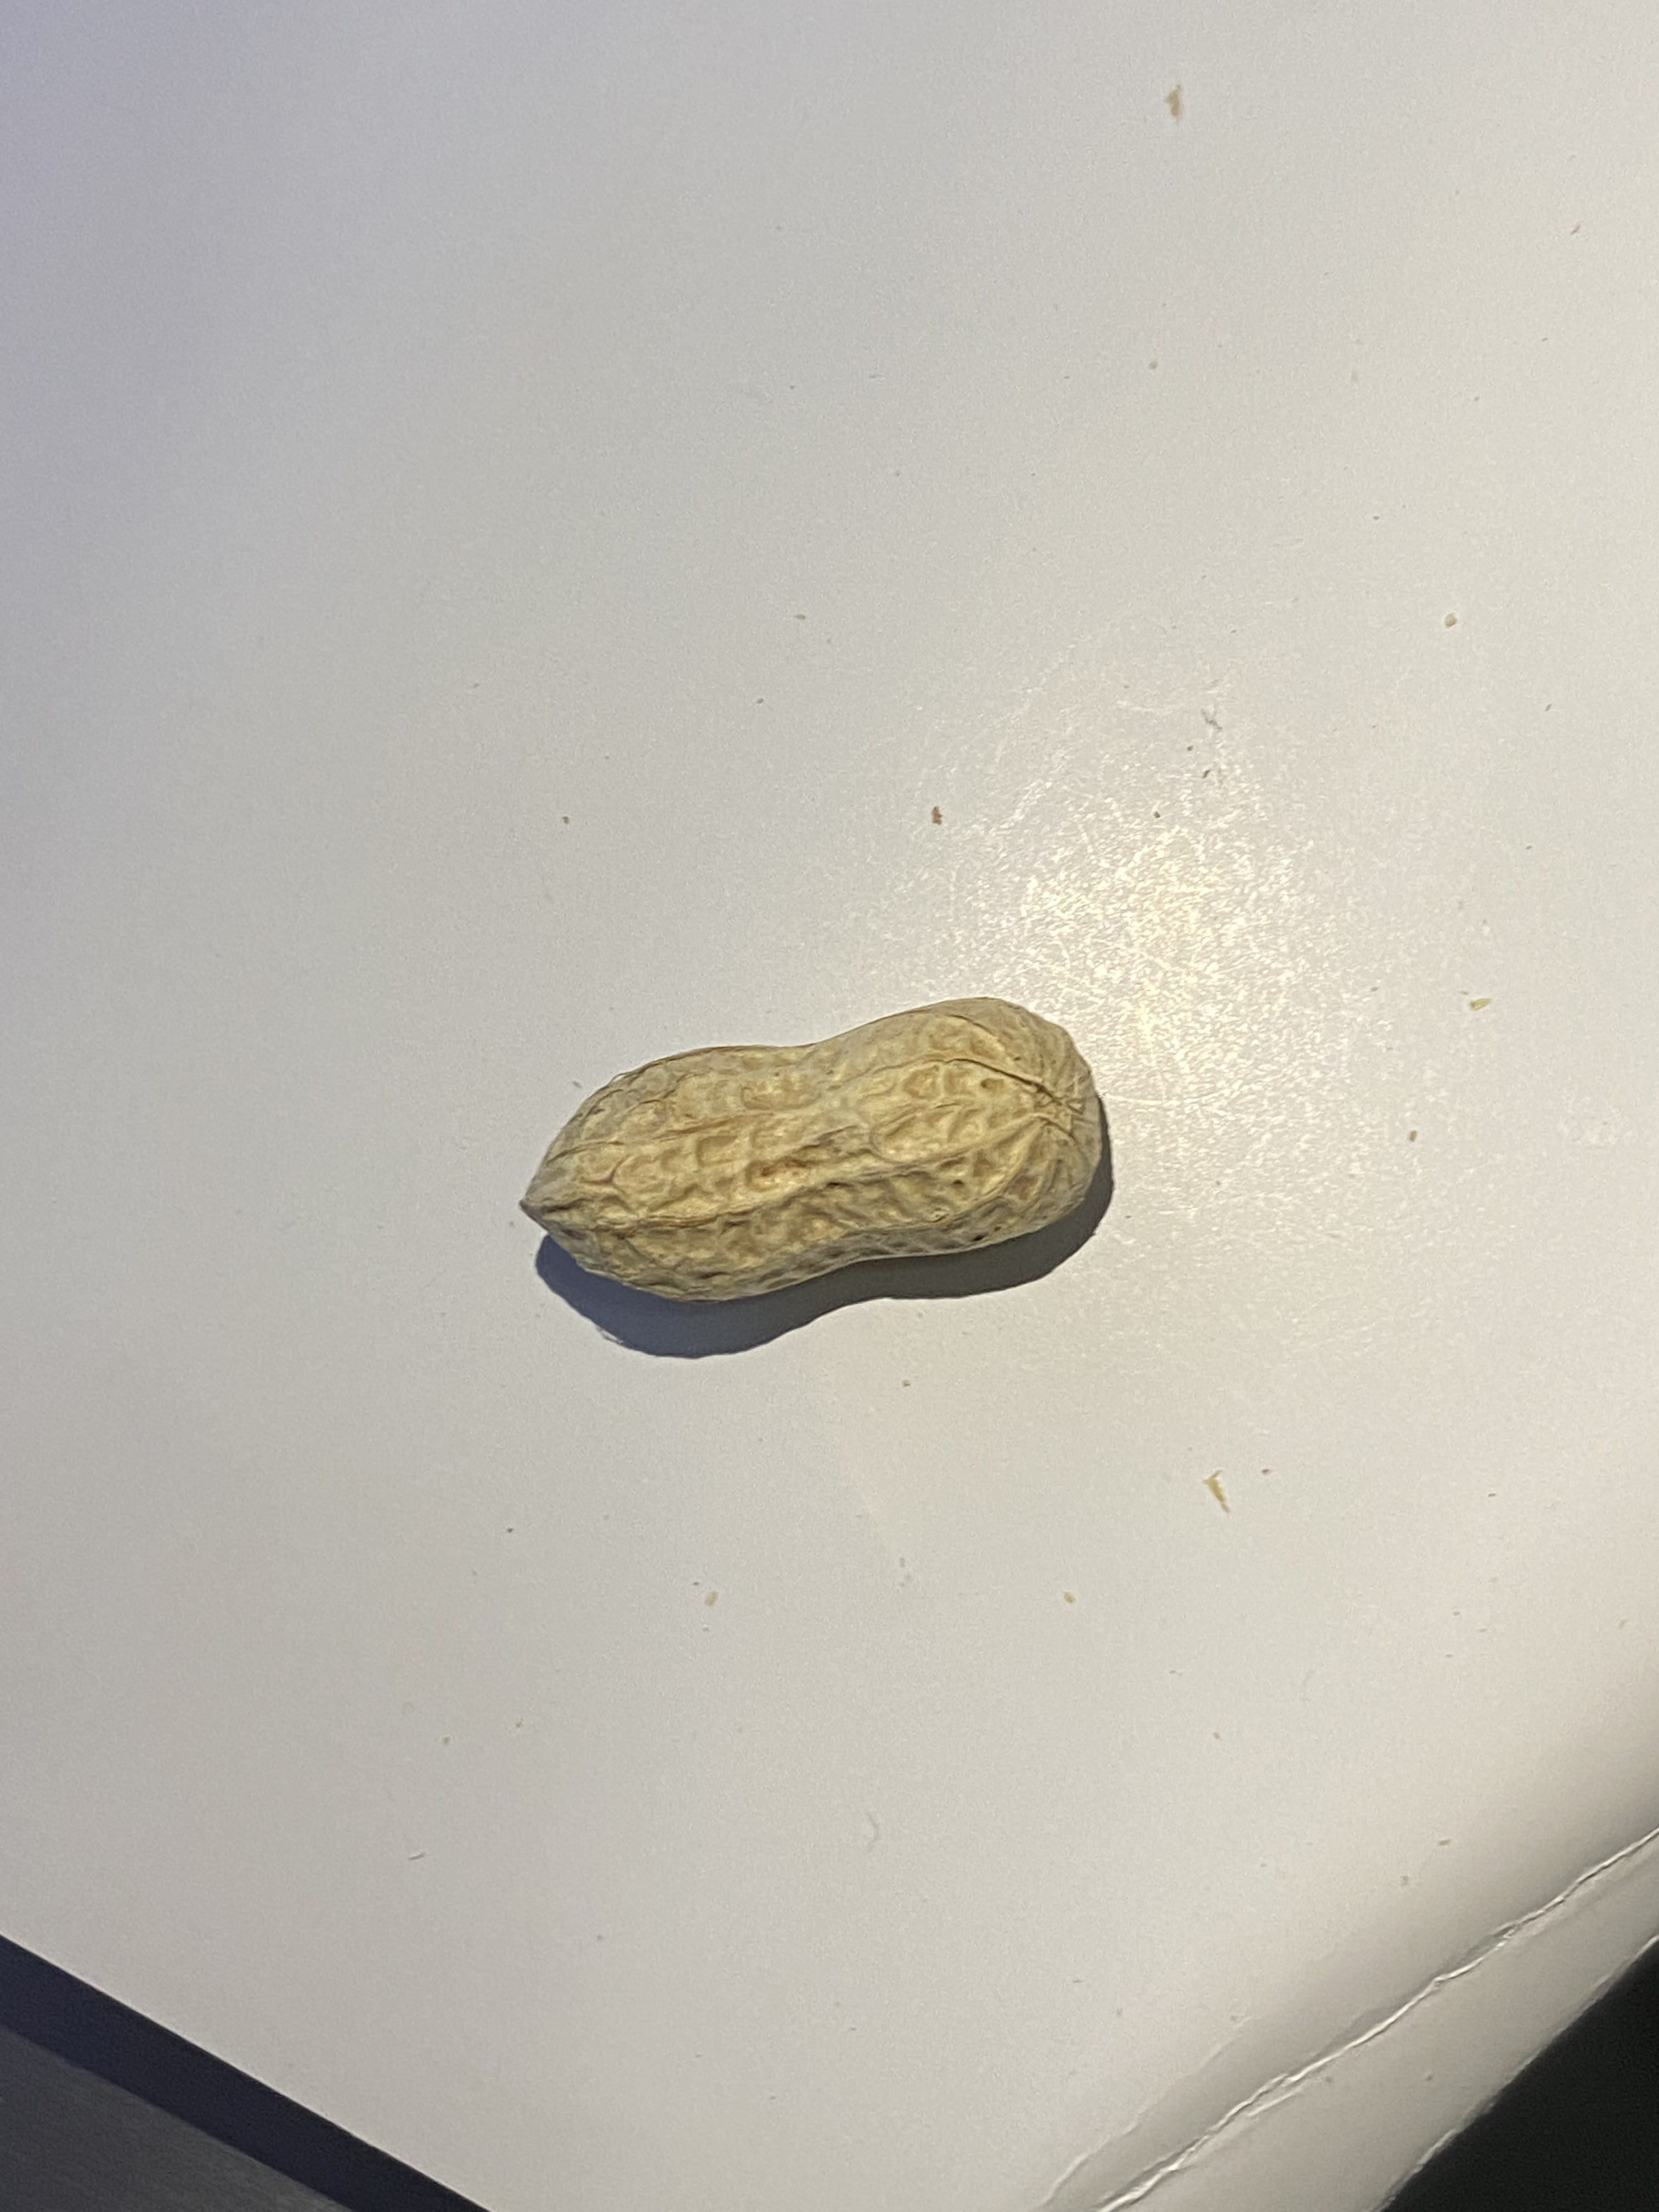kacang2: (498, 972, 1129, 1357)
